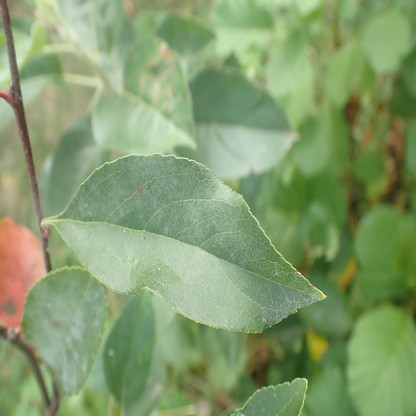powdery_mildew: (53, 151, 329, 330), (19, 265, 106, 395)
